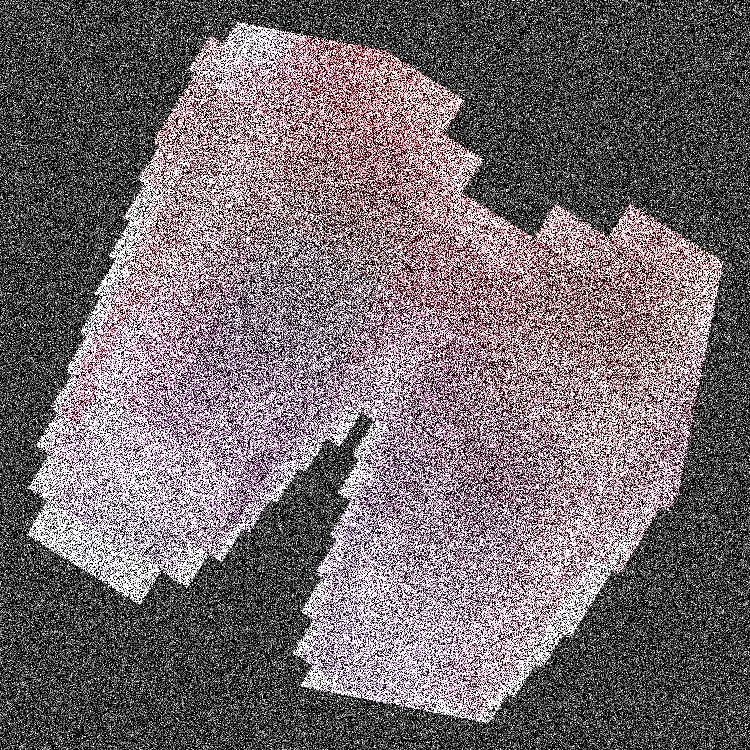Oculos: (158, 0, 749, 749)
